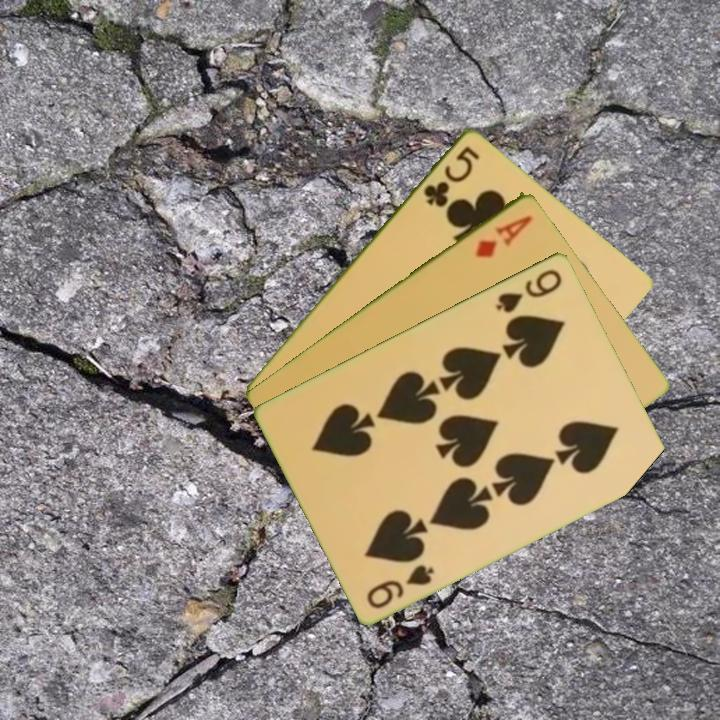5c: (419, 142, 483, 210)
9s: (363, 560, 437, 611), (492, 265, 565, 316)
Ad: (472, 211, 536, 261)
